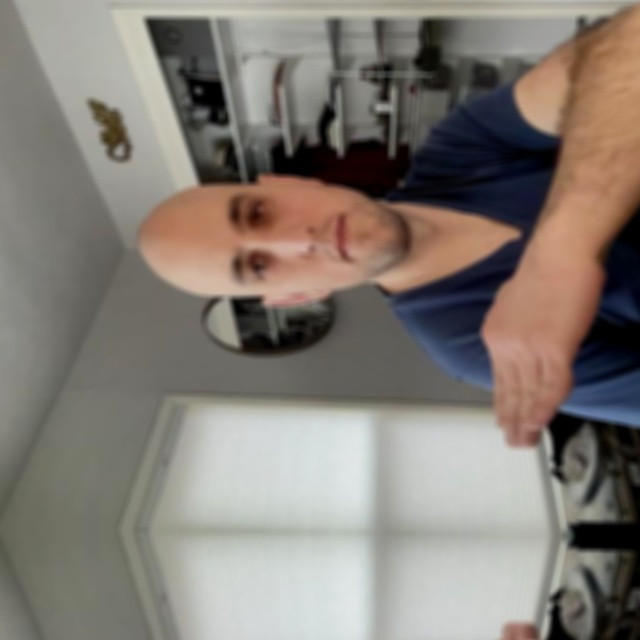Paper: (470, 620, 606, 640)
